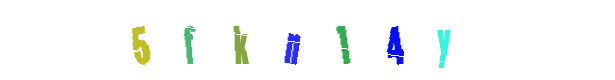1: (268, 0, 348, 80)
4: (309, 0, 389, 80)
5: (100, 0, 180, 80)
F: (200, 0, 280, 80)
K: (230, 0, 310, 80)
N: (258, 0, 338, 80)
Y: (403, 0, 483, 80)
